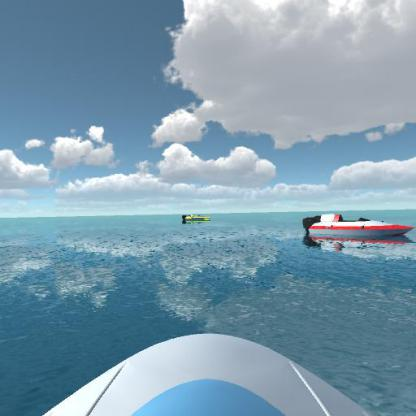usv2: (178, 206, 218, 226)
usv3: (300, 207, 415, 250)
